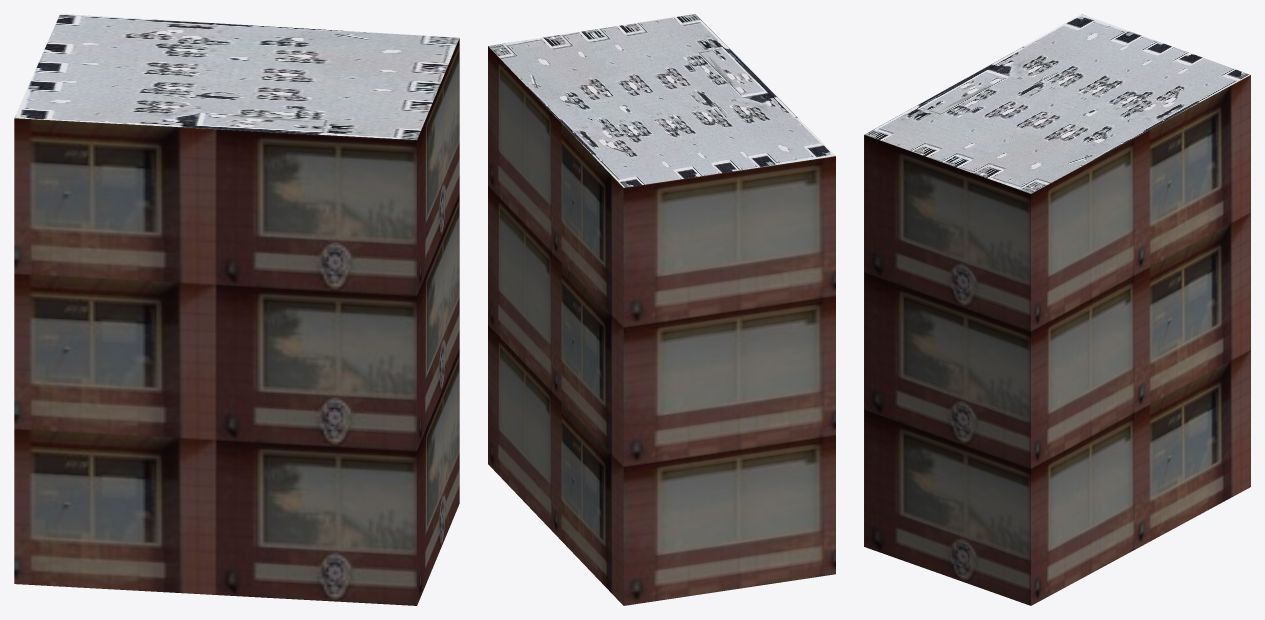
The model's file is ResTex__2696.fbx.
3 renders of one model, left to right at view 1: azimuth 30°, elevation 25°; view 2: azimuth 150°, elevation 25°; view 3: azimuth 270°, elevation 25°, orthographic. The views are drawn at different scales.
Visible parts, largest first — view 1: CityEngineMaterial_13_m, CityEngineMaterial_m; view 2: CityEngineMaterial_13_m, CityEngineMaterial_m; view 3: CityEngineMaterial_13_m, CityEngineMaterial_m.
Boxes of the visible parts, x1,y1,x2,y2 form: CityEngineMaterial_13_m: (14,38,459,605); CityEngineMaterial_m: (14,14,459,139); CityEngineMaterial_13_m: (488,46,835,605); CityEngineMaterial_m: (488,14,835,187); CityEngineMaterial_13_m: (864,75,1250,605); CityEngineMaterial_m: (864,14,1250,193).
Bounding box in the file's own units: 8.42 × 9 × 7.65.
Materials: 2 (2 with a texture image).
